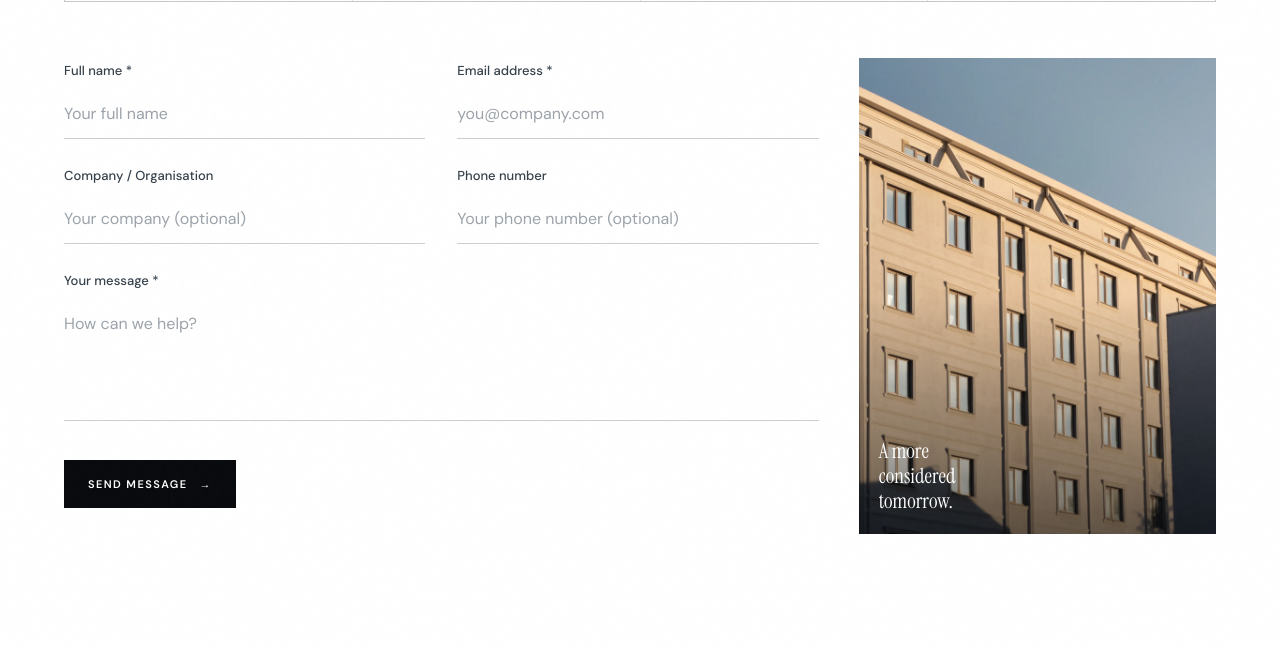
HowCanWeHelp › shows validation errors when submitting an empty form, and does not show the not-connected notice
(page scrolled)
Click the button with test id "button-contact-submit". click: [150, 484]
box: 64,460 -> 236,508
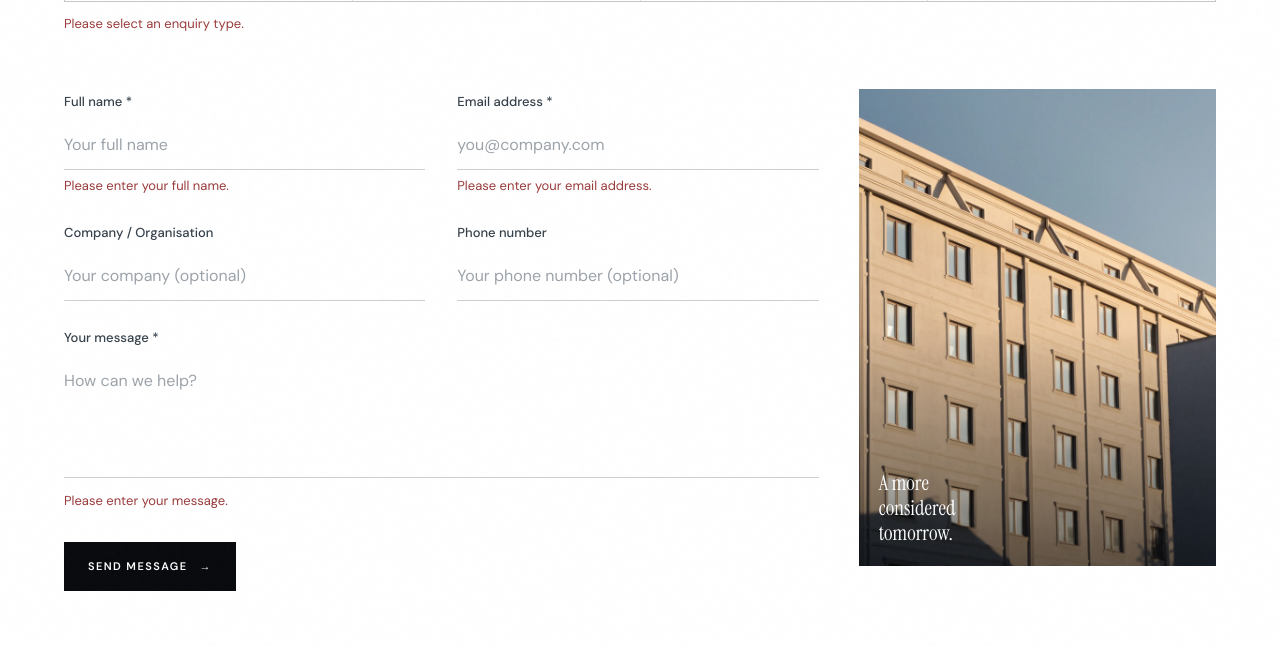
Expected: the message "Please enter your full name." is shown, 64,177 -> 229,194
Expected: the message "Please enter your email address." is shown, 457,177 -> 652,194
Expected: the message "Please select an enquiry type." is shown, 64,15 -> 244,32
